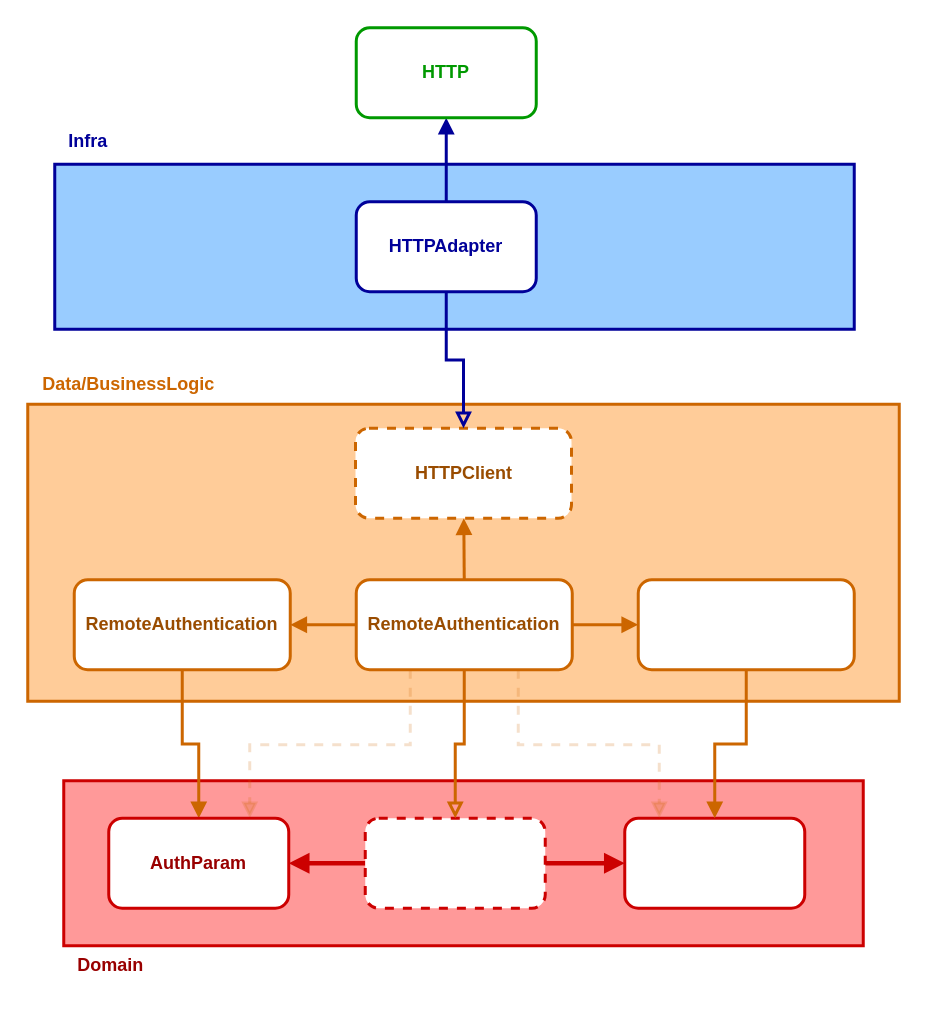
This 926x1010 diagram has some shape labels left out. The centre of each missing label's shape, as x and y in pixels:
Account: [714,862]
Authentication: [454,862]
RemoteAccount: [745,624]
